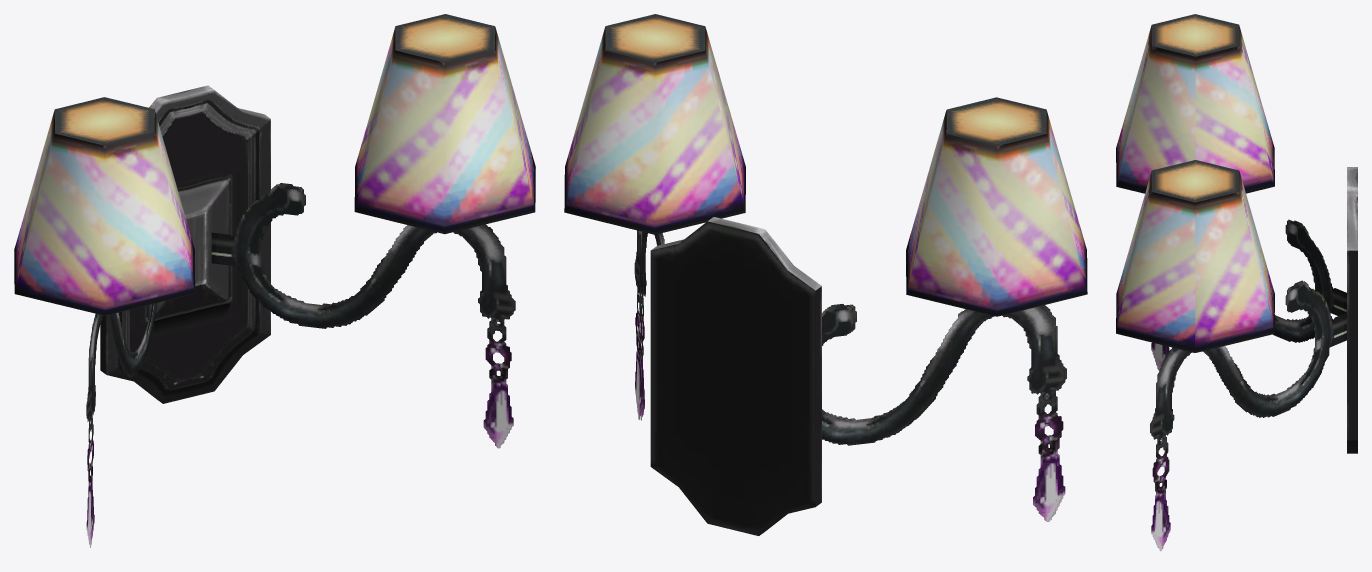
File: furni_0200601.FBX
The picture shows the model from 3 angles, left to right: view 1: azimuth 30°, elevation 25°; view 2: azimuth 150°, elevation 25°; view 3: azimuth 270°, elevation 25°; orthographic projection. The views are drawn at different scales.
Parts seen in each view (by area): view 1: furni_0200601; view 2: furni_0200601; view 3: furni_0200601.
Part boxes in pixels (x1=…): furni_0200601: x1=14, y1=14, x2=535, y2=547; furni_0200601: x1=564, y1=14, x2=1087, y2=535; furni_0200601: x1=1116, y1=14, x2=1357, y2=551.
Size of the model in its own units: 72.8 by 54.18 by 33.34.
Materials: 1 (1 with a texture image).
